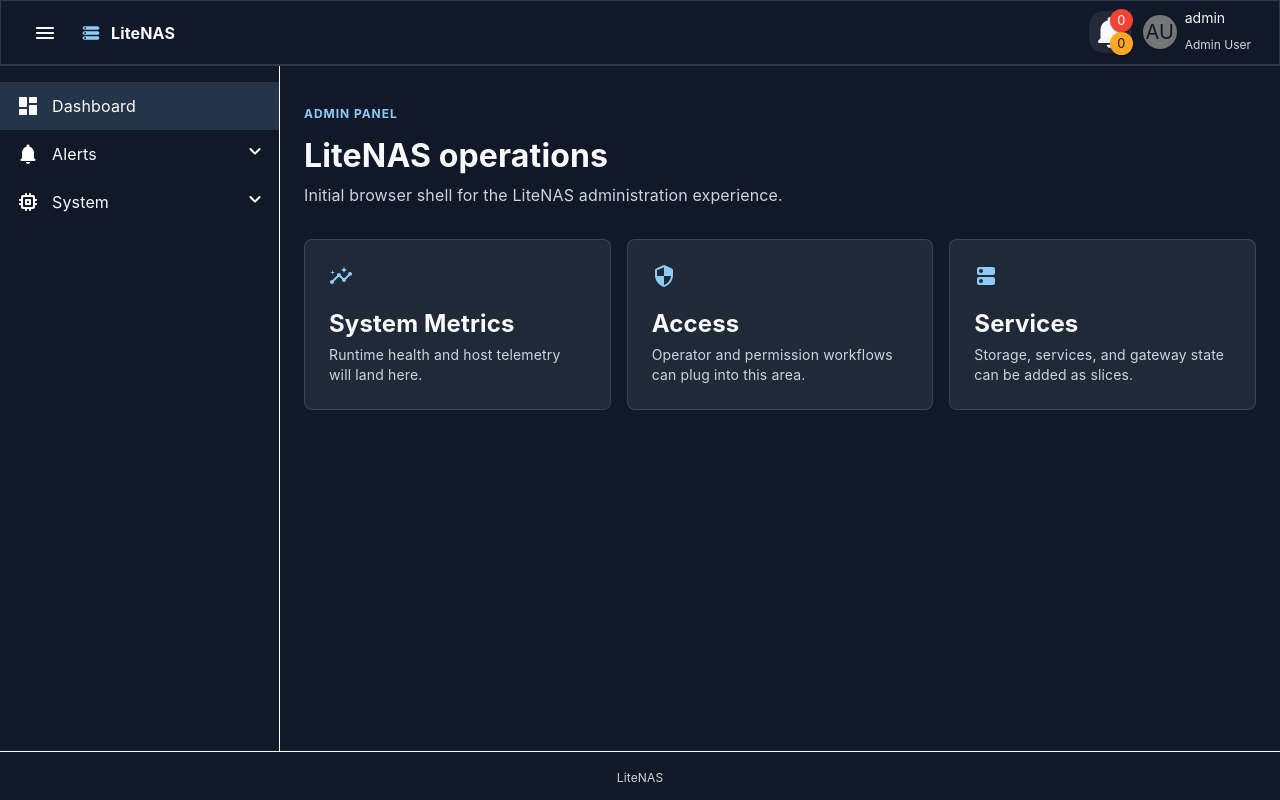
application providers › renders authenticated user menu from the app shell
What coordinates should you click on to do the following:
click the button with aria-label "User menu"
I would click on:
 (1197, 32)
Its box is 1139,6 -> 1255,59.
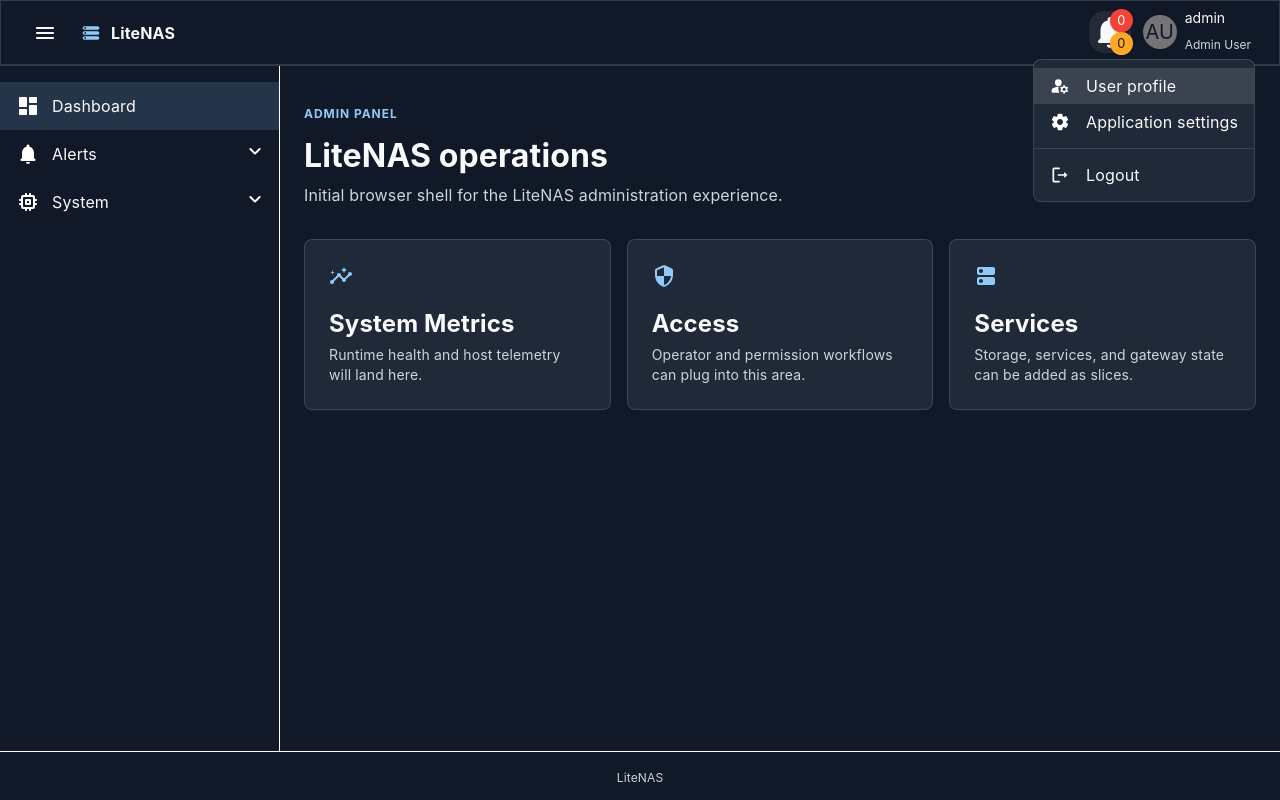
Check: the menu item "User profile" is shown, box 1034,68 -> 1254,104
Check: the menu item "Application settings" is shown, box 1050,112 -> 1238,132
Check: the menu item "Logout" is shown, box 1050,165 -> 1140,185
